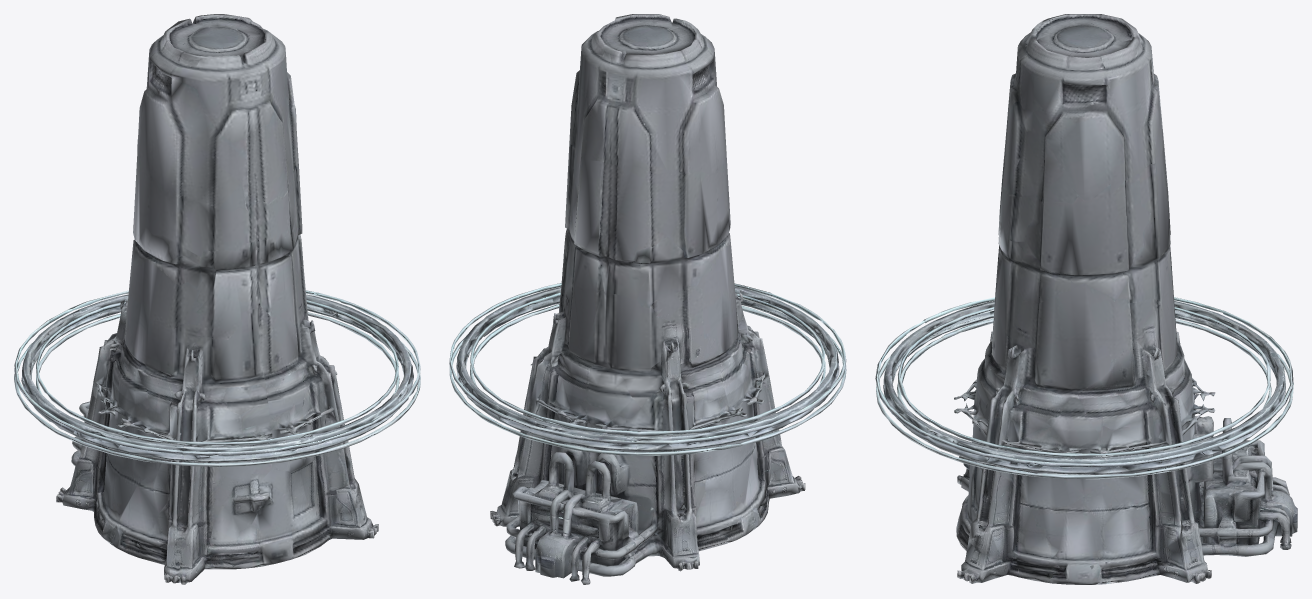
File: terraformer.glb
3 renders of one model, left to right at view 1: azimuth 30°, elevation 25°; view 2: azimuth 150°, elevation 25°; view 3: azimuth 270°, elevation 25°, orthographic. The views are drawn at different scales.
Bounding box in the file's own units: 1.44 × 1.89 × 1.45.
Materials: 1 (1 with a texture image).
